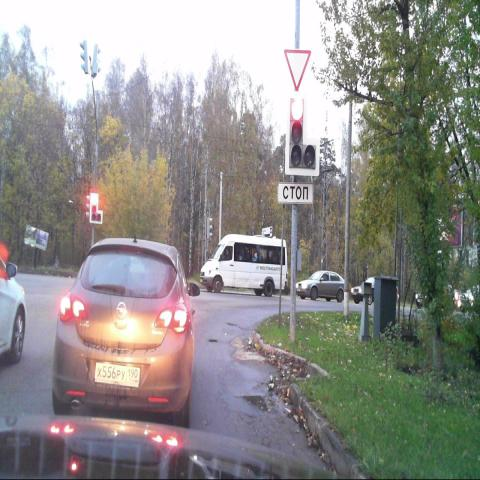2_4: (285, 51, 312, 94)
6_16: (278, 184, 314, 204)
